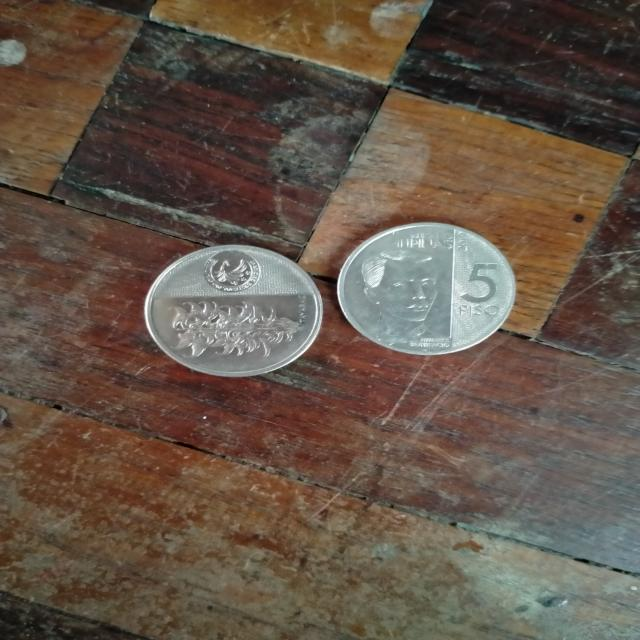5_New_Back: (165, 298, 312, 364)
5_New_Front: (443, 257, 512, 330)
